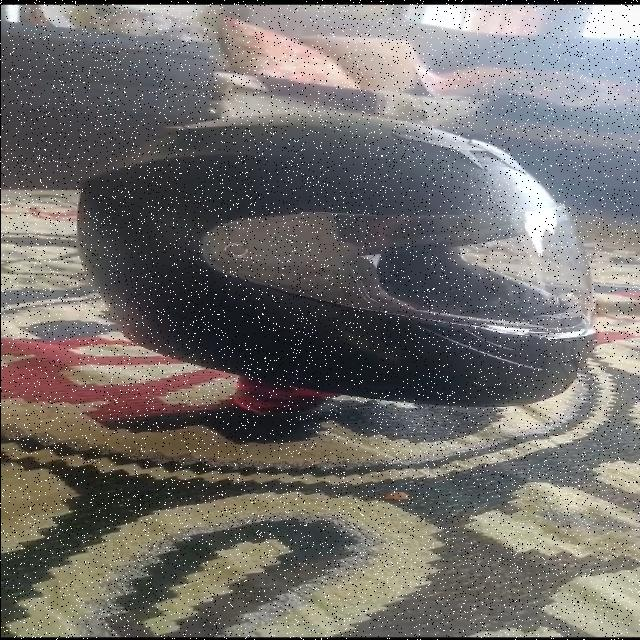Helmet: (75, 96, 595, 414)
